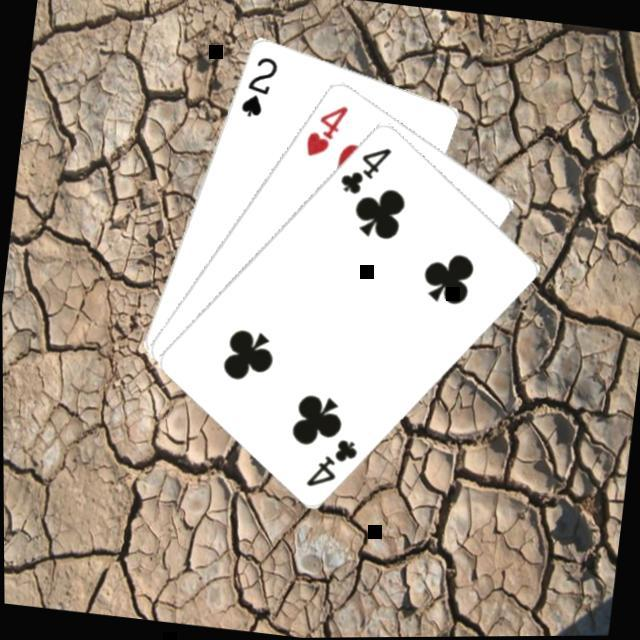2S: (234, 49, 280, 121)
4C: (299, 430, 361, 493), (333, 137, 394, 200)
4H: (299, 96, 350, 162)
